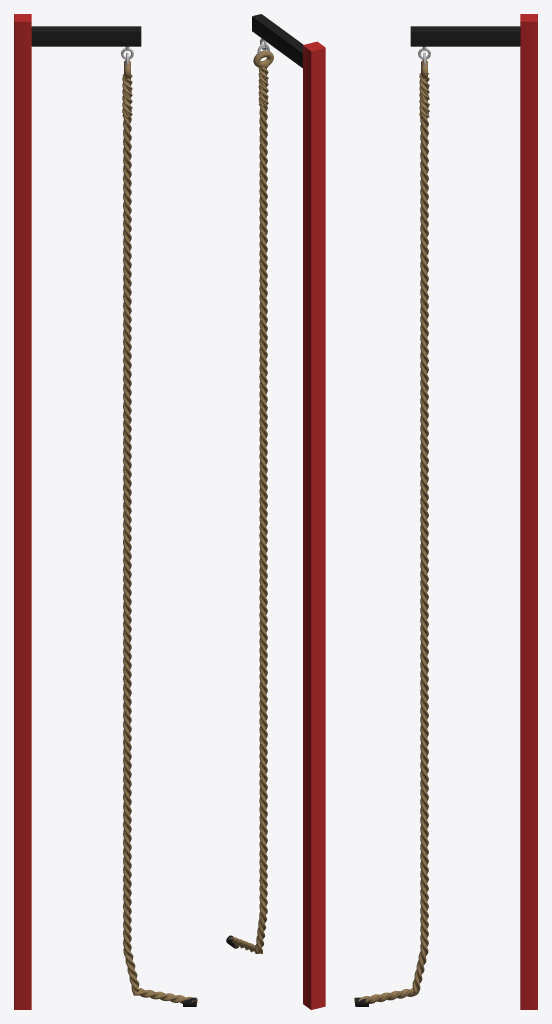
Rendered from rogue-climbing-ropes_v002.glb.
3 renders of one model, left to right at view 1: azimuth 90°, elevation 25°; view 2: azimuth 210°, elevation 25°; view 3: azimuth 270°, elevation 25°, orthographic. The views are drawn at different scales.
Parts seen in each view (by area): view 1: rogue-climbing-ropes_red, rogue-climbing-ropes_manila, rogue-climbing-ropes_frame; view 2: rogue-climbing-ropes_red, rogue-climbing-ropes_manila, rogue-climbing-ropes_frame; view 3: rogue-climbing-ropes_red, rogue-climbing-ropes_manila, rogue-climbing-ropes_frame.
Part boxes in pixels (x1,y1,x2,y2): rogue-climbing-ropes_red: (14,14,31,1009); rogue-climbing-ropes_manila: (122,60,197,1004); rogue-climbing-ropes_frame: (31,26,141,46); rogue-climbing-ropes_red: (303,41,325,1009); rogue-climbing-ropes_manila: (228,50,273,953); rogue-climbing-ropes_frame: (252,14,303,68); rogue-climbing-ropes_red: (520,14,537,1009); rogue-climbing-ropes_manila: (354,60,429,1004); rogue-climbing-ropes_frame: (410,26,520,46).
Bounding box in the file's own units: 0.101 × 4.7 × 0.7916.
